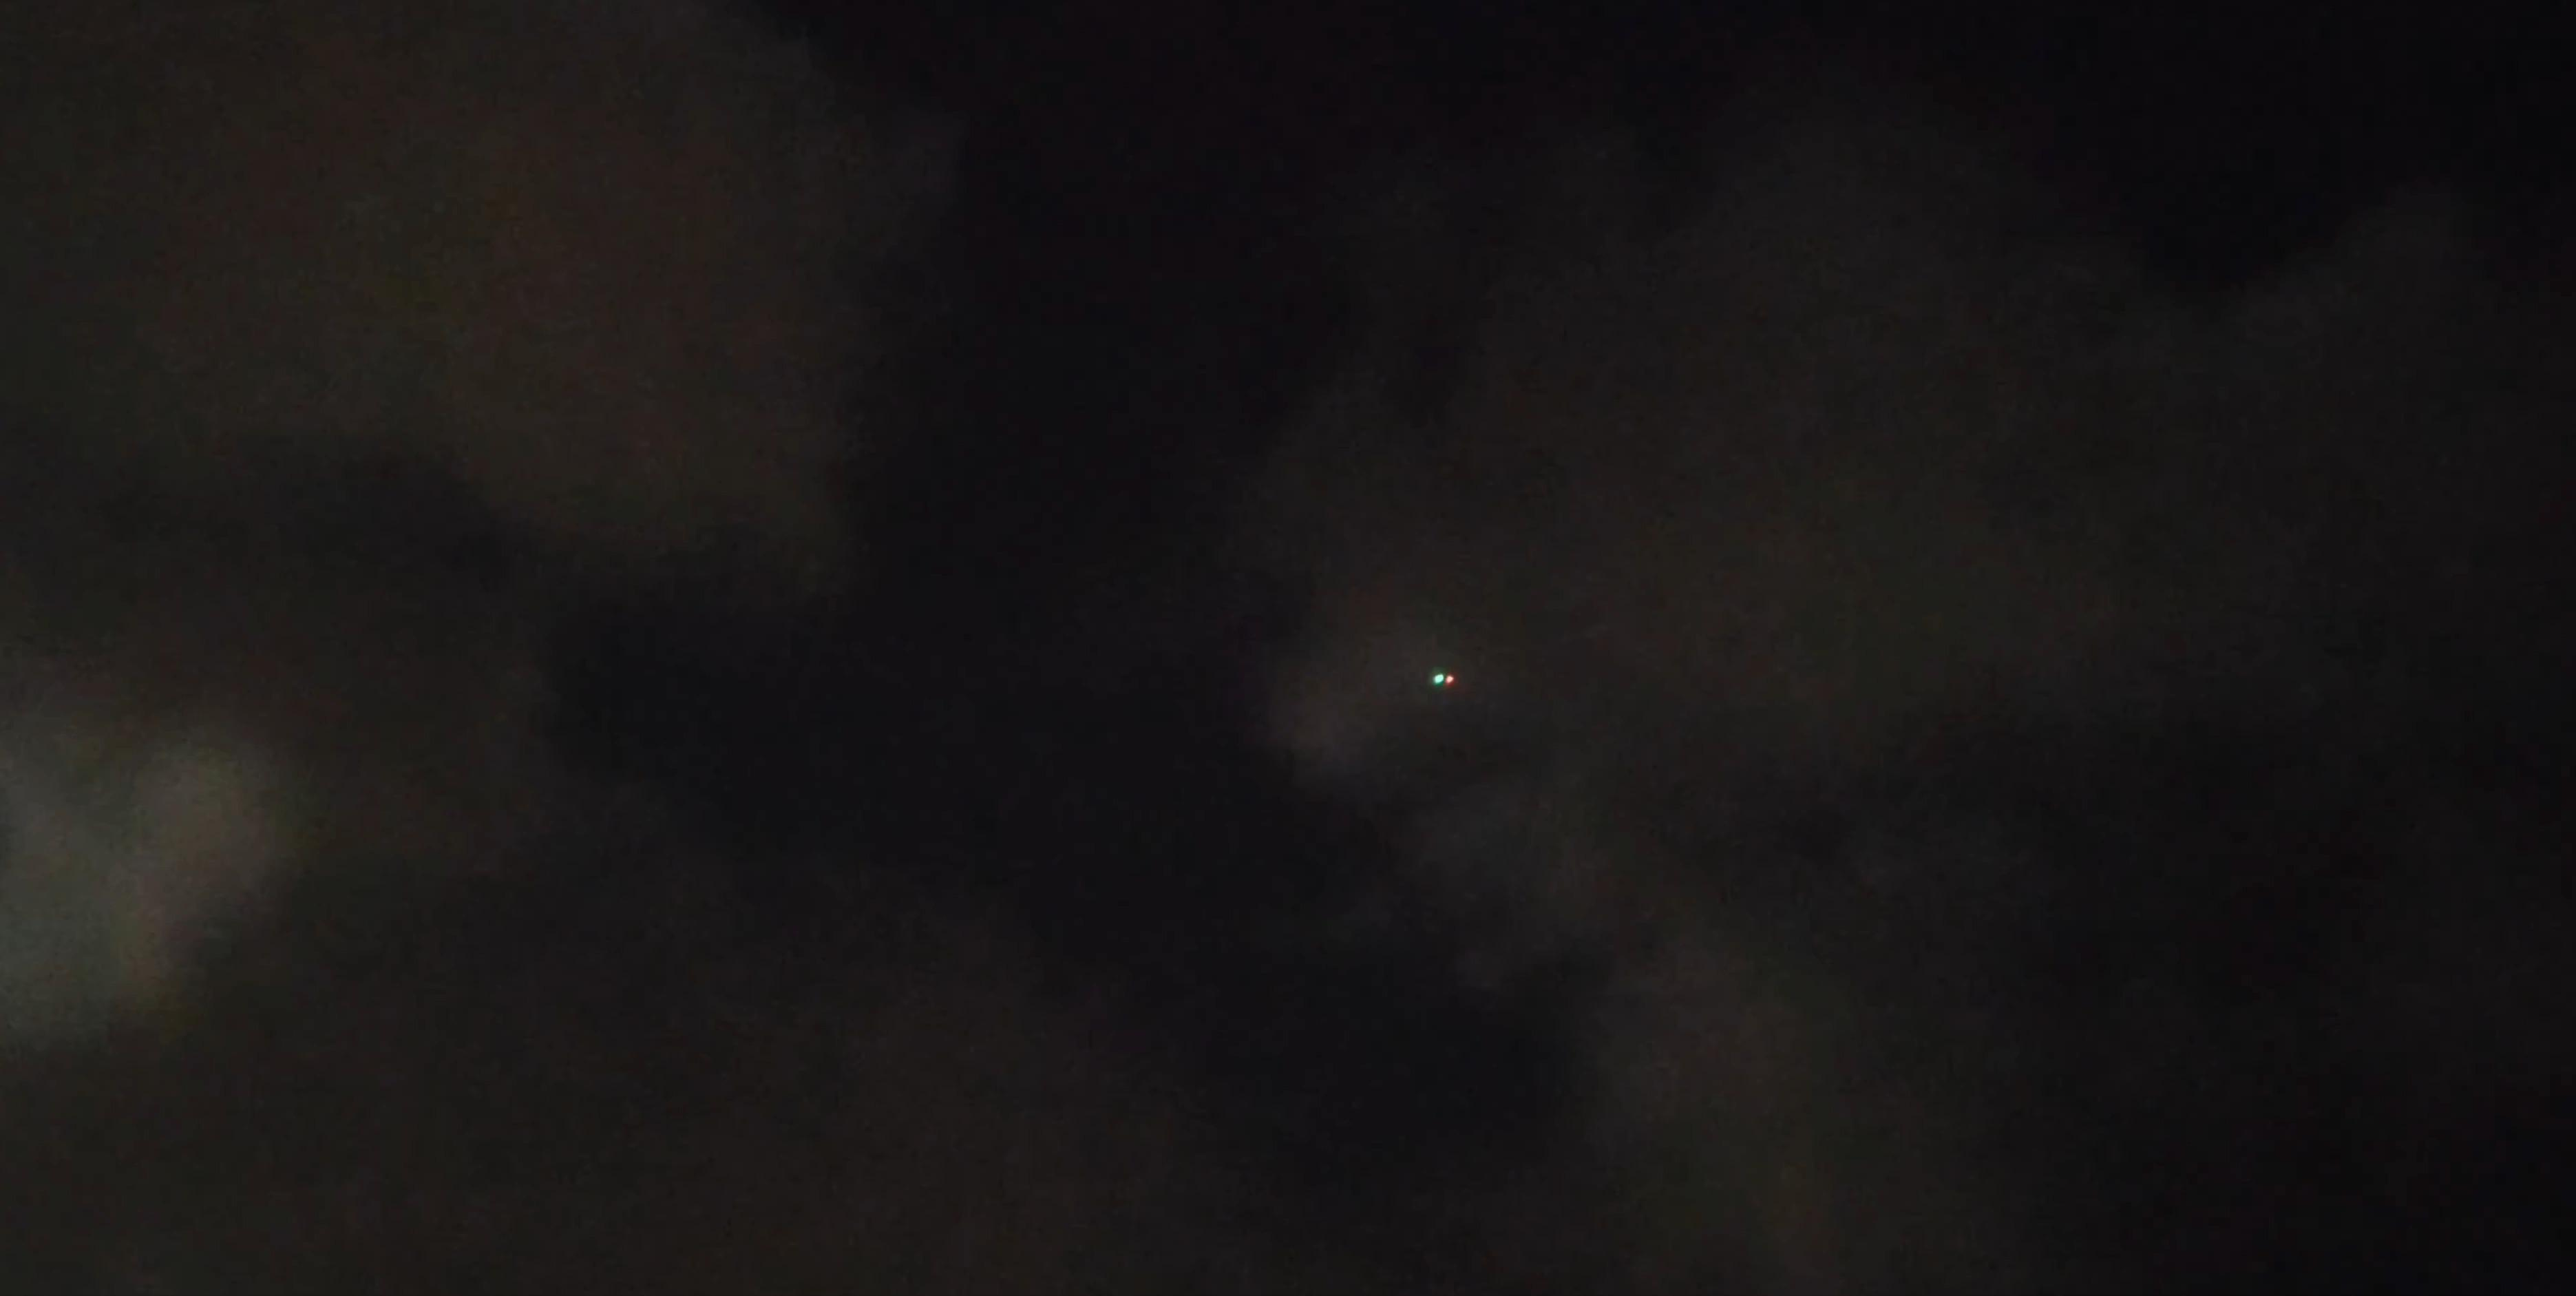Plane: (1424, 655, 1474, 699)
